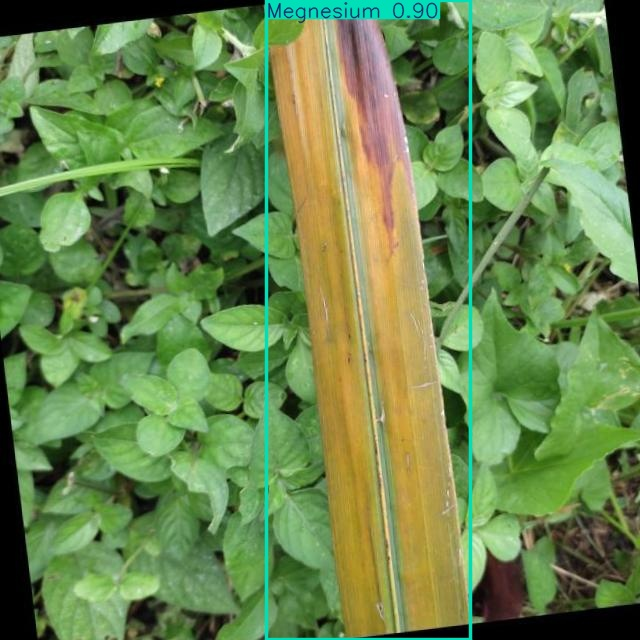Megnesium: (266, 1, 471, 640)
